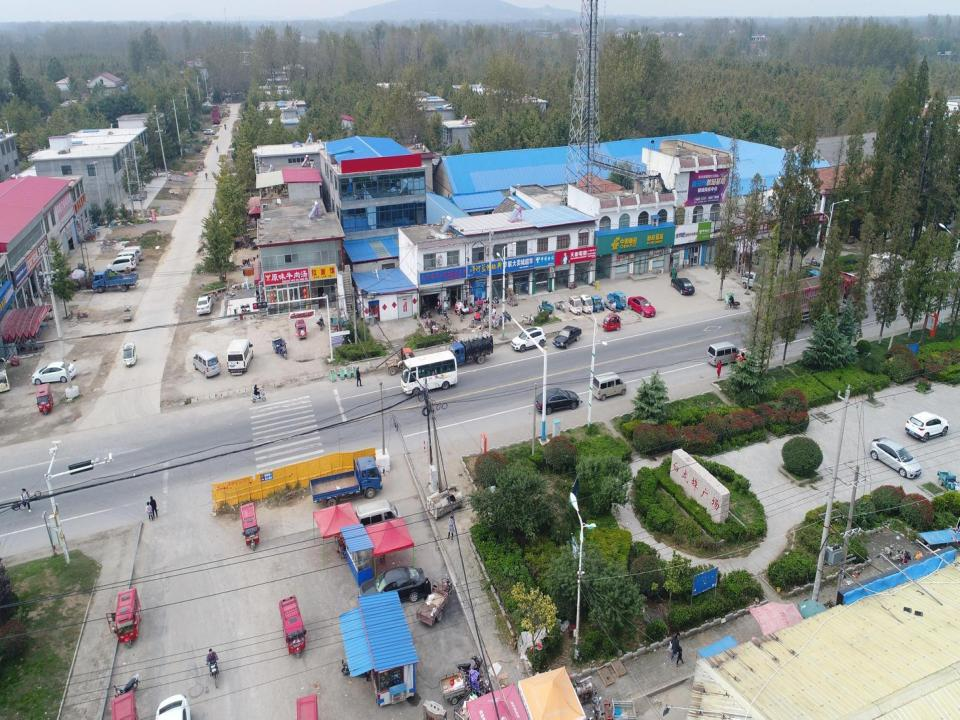bus: (396, 350, 457, 396)
car: (353, 566, 428, 605), (869, 434, 922, 480), (906, 410, 949, 442), (532, 389, 580, 414), (31, 359, 75, 384), (509, 325, 548, 352), (552, 324, 582, 348), (626, 294, 657, 317), (106, 254, 137, 272), (670, 276, 695, 295), (196, 294, 214, 314), (202, 127, 216, 136)
truck: (752, 269, 864, 333), (307, 456, 385, 508), (448, 332, 494, 367), (239, 500, 263, 552), (91, 269, 139, 293), (741, 270, 776, 298), (185, 143, 204, 155), (211, 103, 221, 124)
van: (354, 498, 404, 533), (706, 338, 747, 365), (225, 338, 254, 376), (592, 371, 628, 400), (192, 349, 221, 378), (114, 250, 139, 266), (122, 244, 144, 262)
